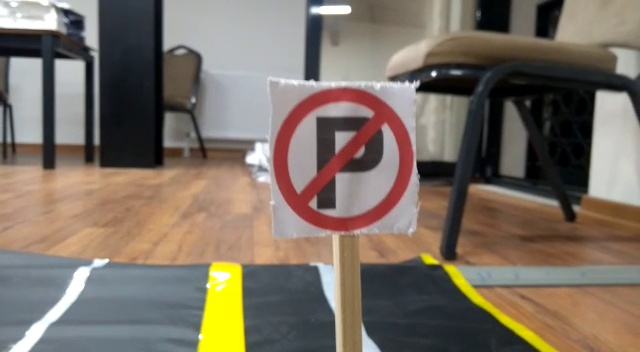park_yapilmaz: (268, 79, 417, 233)
